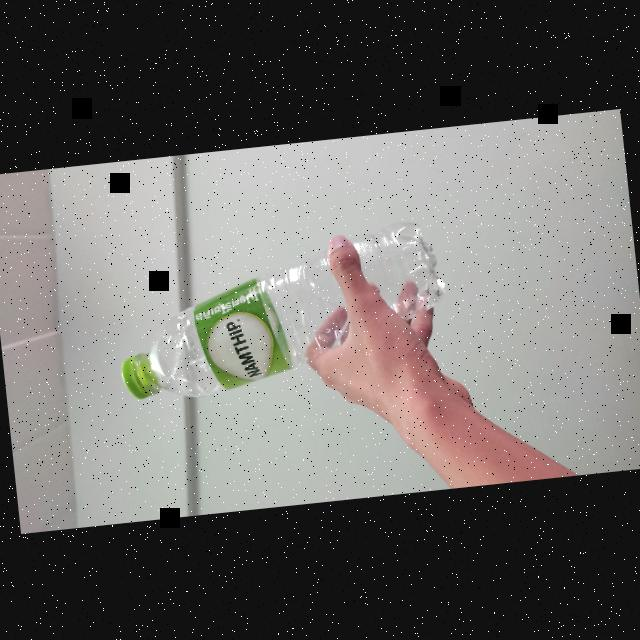plastic_bottle: (104, 214, 457, 416)
plastic_bottle_cap: (116, 350, 160, 402)
